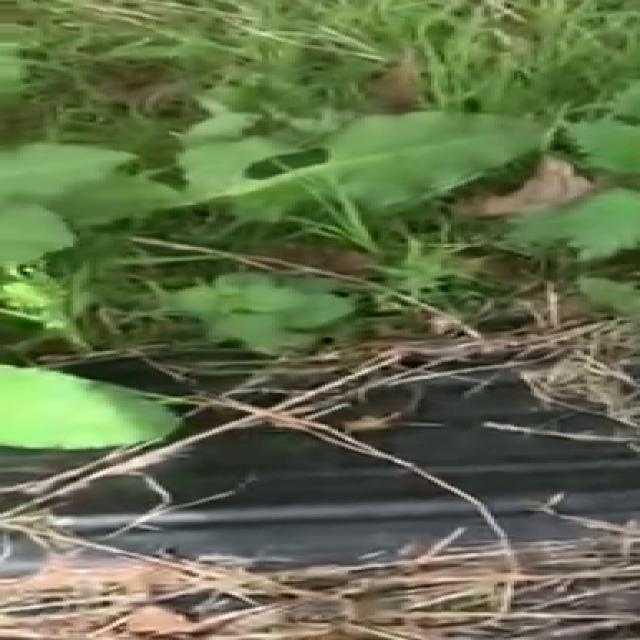organic waste: (0, 61, 594, 433)
